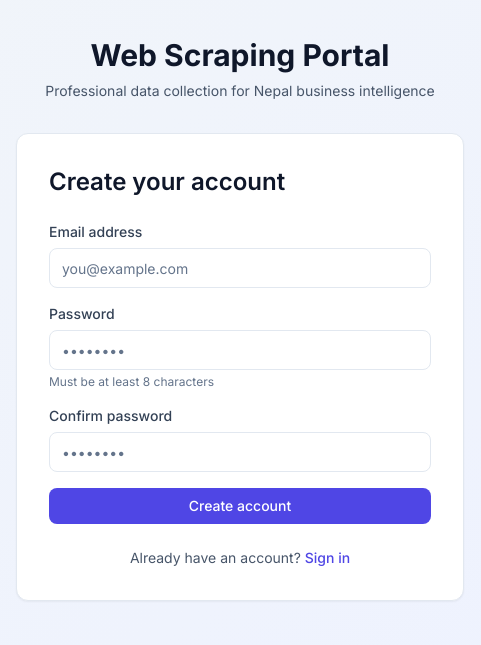
Test: RegisterPage › Form Validation - Empty Fields › shows error when password is empty
Type "test@example.com" into the field labelled "Email address" at (240, 268), box [49,248,431,288]
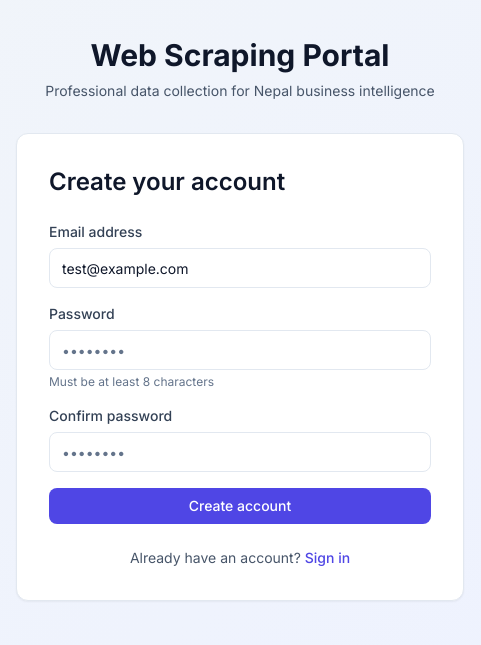
Click the button "Create account" at (240, 506), box [49,488,431,524]
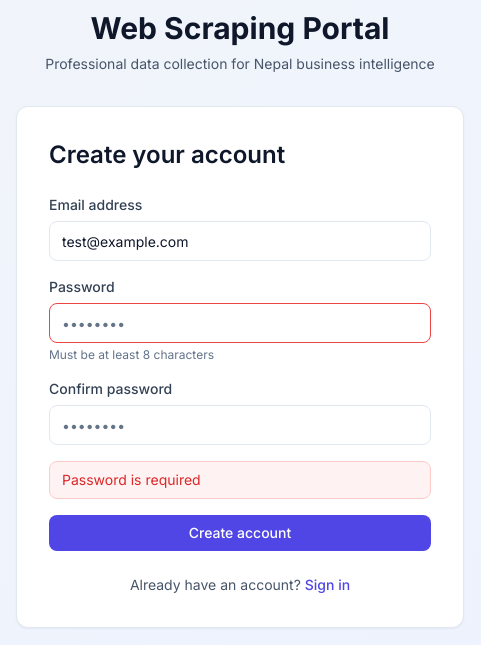
Expected: the text "Password is required" is shown, [49,461,431,499]
